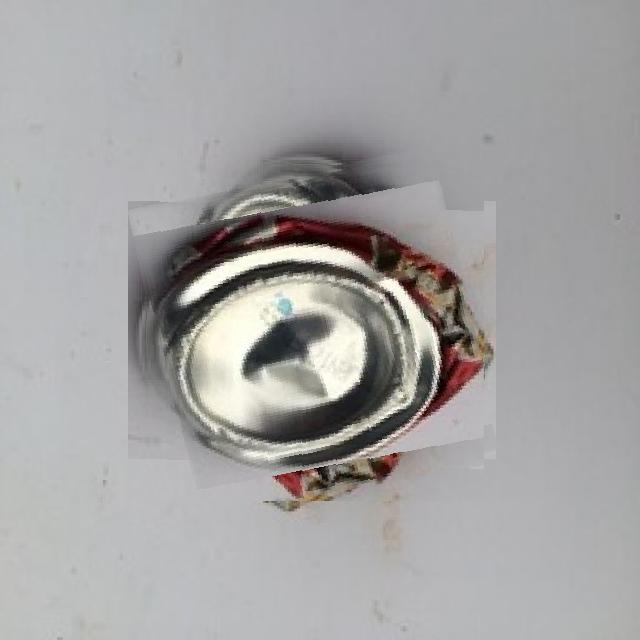recyclable: (141, 159, 484, 501)
